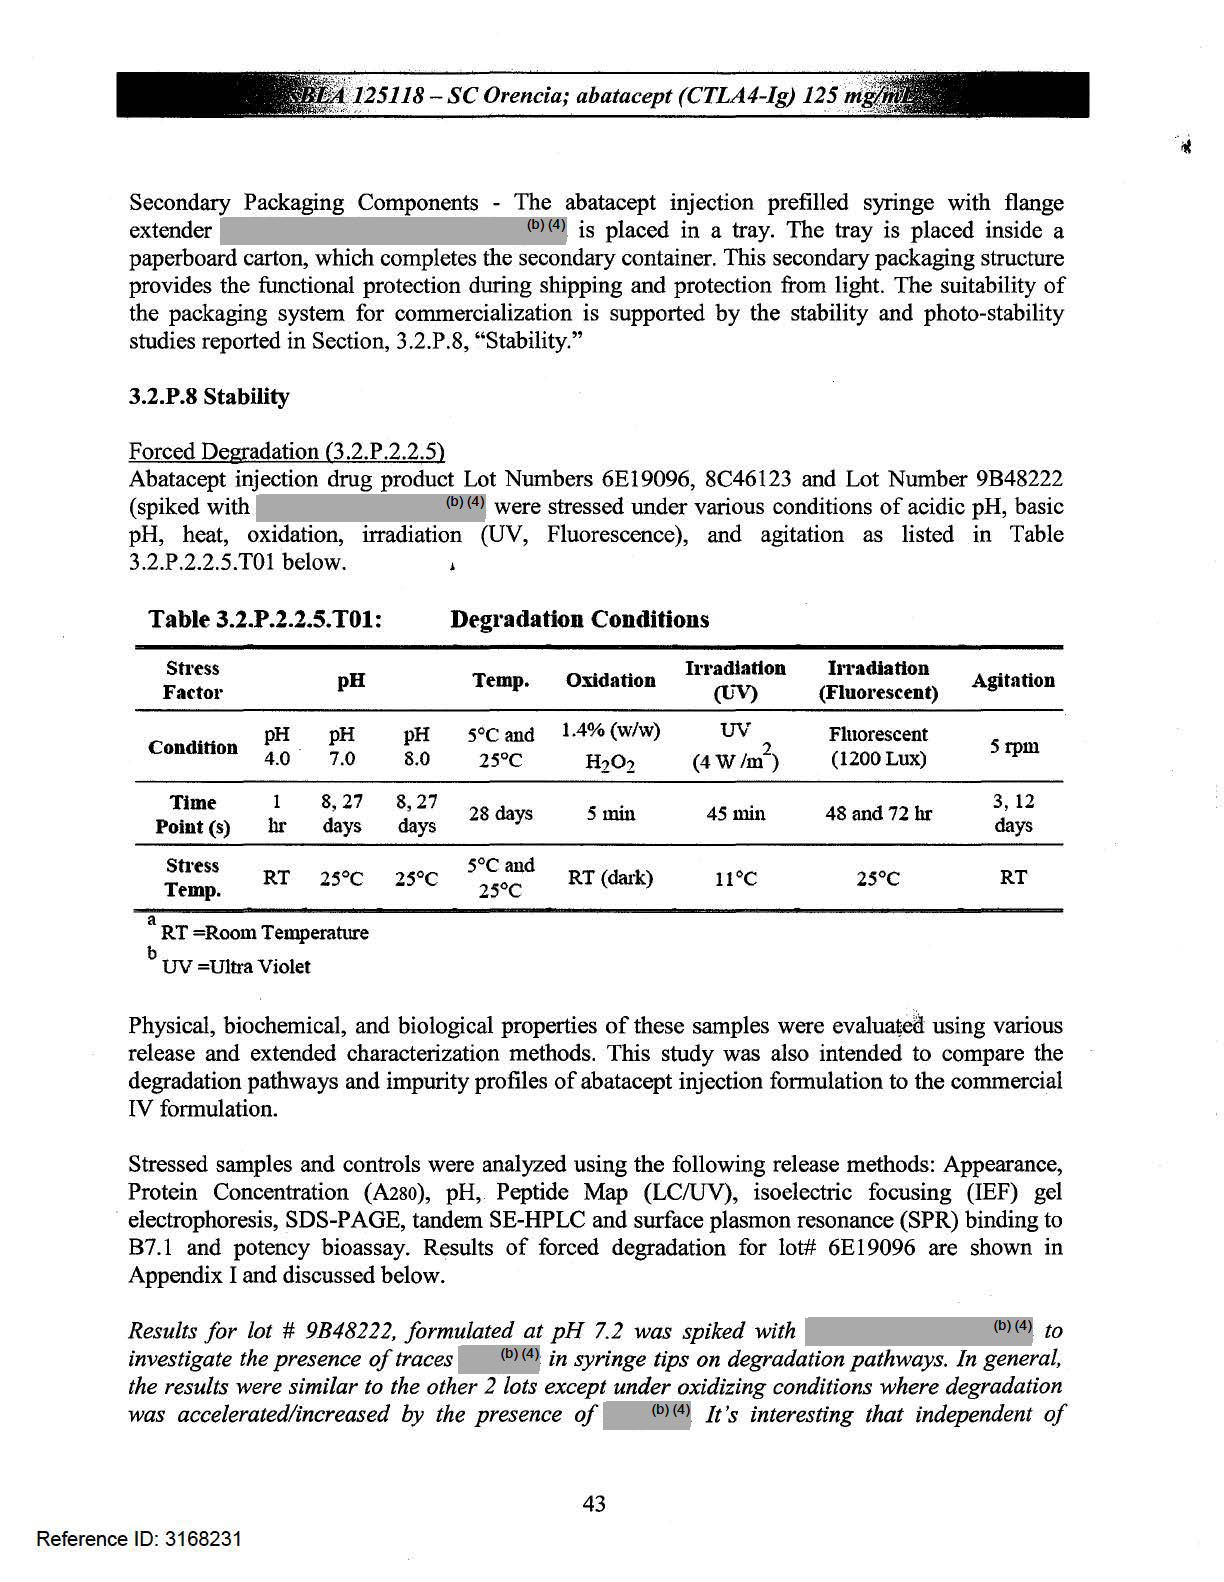partial_lined_merged_cells: (134, 643, 1063, 914)
